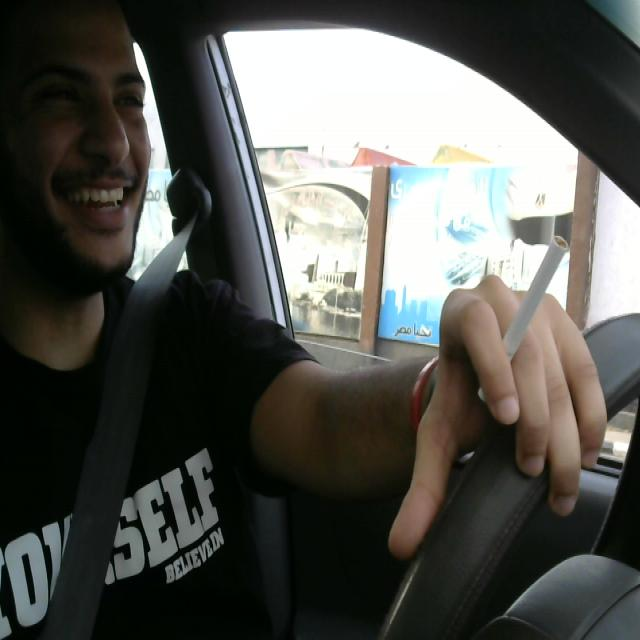smoking: (473, 231, 570, 402)
